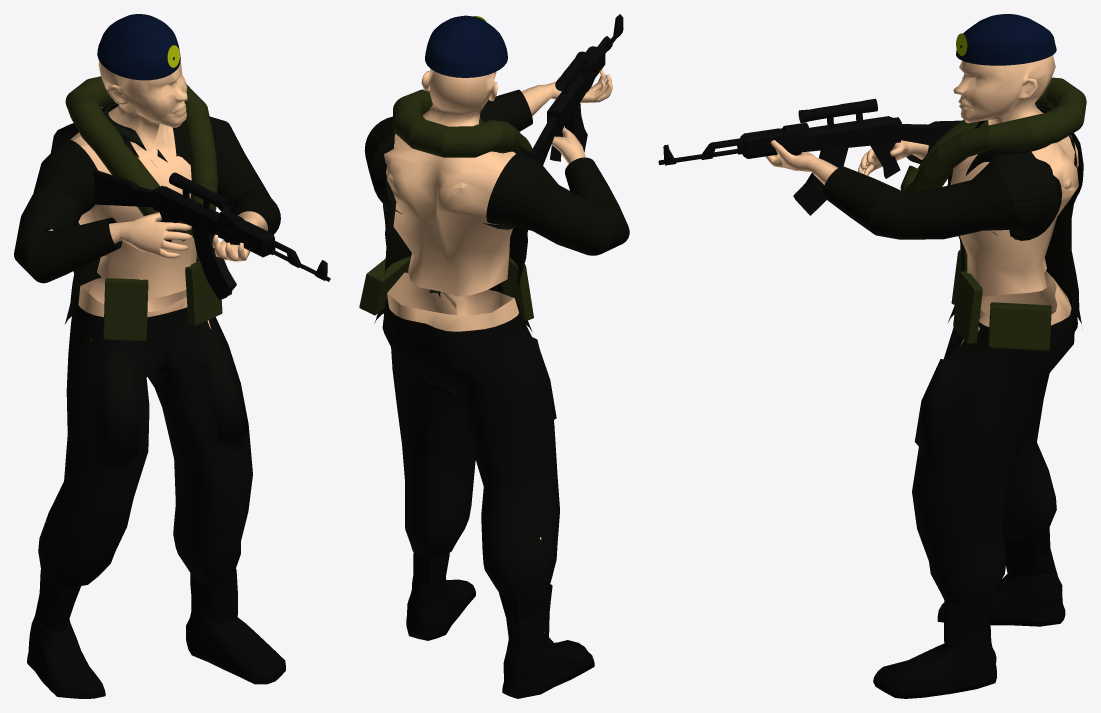
File: marines01.obj
3 renders of one model, left to right at view 1: azimuth 30°, elevation 25°; view 2: azimuth 150°, elevation 25°; view 3: azimuth 270°, elevation 25°, orthographic.
Visible parts, largest first — view 1: pants_Circle.002_pants, Human.000_body.000_skin_player, sleeve_right_Circle.001_jacket, Circle_Circle.005_pocket, shoe_left_Plane.001_shoes, AK_Plane.002_ak_body, shoe_right_Plane_shoes, hat_Sphere_hat, sleeve_left_Circle_jacket, Cube.001_Cube.002_pocket, Cube.002_Cube.003_pocket, AK_clip_Plane.006_ak_clip (+3 smaller); view 2: pants_Circle.002_pants, Human.000_body.000_skin_player, sleeve_right_Circle.001_jacket, shoe_right_Plane_shoes, Circle_Circle.005_pocket, hat_Sphere_hat, shoe_left_Plane.001_shoes, sleeve_left_Circle_jacket, AK_Plane.002_ak_body, jacket_Circle.003_jacket, Cube.003_Cube.007_pocket, Cube.001_Cube.002_pocket (+2 smaller); view 3: pants_Circle.002_pants, Human.000_body.000_skin_player, sleeve_left_Circle_jacket, Circle_Circle.005_pocket, shoe_left_Plane.001_shoes, AK_Plane.002_ak_body, shoe_right_Plane_shoes, hat_Sphere_hat, jacket_Circle.003_jacket, Cube.003_Cube.007_pocket, Cube.002_Cube.003_pocket, AK_clip_Plane.006_ak_clip (+1 smaller).
Boxes of the visible parts, x1,y1,x2,y2 form: pants_Circle.002_pants: (38,277,252,587); Human.000_body.000_skin_player: (46,60,267,522); sleeve_right_Circle.001_jacket: (14,139,121,283); Circle_Circle.005_pocket: (65,76,217,241); shoe_left_Plane.001_shoes: (186,568,285,684); AK_Plane.002_ak_body: (92,169,330,281); shoe_right_Plane_shoes: (27,570,105,698); hat_Sphere_hat: (97,14,180,80); sleeve_left_Circle_jacket: (173,116,280,234); Cube.001_Cube.002_pocket: (103,278,148,340); Cube.002_Cube.003_pocket: (185,261,222,325); AK_clip_Plane.006_ak_clip: (191,226,236,300); pants_Circle.002_pants: (382,288,559,599); Human.000_body.000_skin_player: (384,69,612,632); sleeve_right_Circle.001_jacket: (486,152,629,255); shoe_right_Plane_shoes: (499,584,594,698); Circle_Circle.005_pocket: (392,89,532,157); hat_Sphere_hat: (425,15,507,77); shoe_left_Plane.001_shoes: (406,552,475,640); sleeve_left_Circle_jacket: (364,89,532,213); AK_Plane.002_ak_body: (530,14,623,165); jacket_Circle.003_jacket: (374,127,541,331); Cube.003_Cube.007_pocket: (359,256,410,315); Cube.001_Cube.002_pocket: (501,257,533,320); pants_Circle.002_pants: (912,278,1077,607); Human.000_body.000_skin_player: (765,55,1078,345); sleeve_left_Circle_jacket: (823,152,1061,240); Circle_Circle.005_pocket: (900,77,1086,193); shoe_left_Plane.001_shoes: (873,597,996,698); AK_Plane.002_ak_body: (658,116,961,178); shoe_right_Plane_shoes: (937,527,1065,626); hat_Sphere_hat: (956,14,1056,65); jacket_Circle.003_jacket: (947,104,1083,324); Cube.003_Cube.007_pocket: (988,302,1051,350); Cube.002_Cube.003_pocket: (953,271,982,343); AK_clip_Plane.006_ak_clip: (793,148,848,215).
Size of the model in its own units: 1.26 by 3.27 by 1.98.
